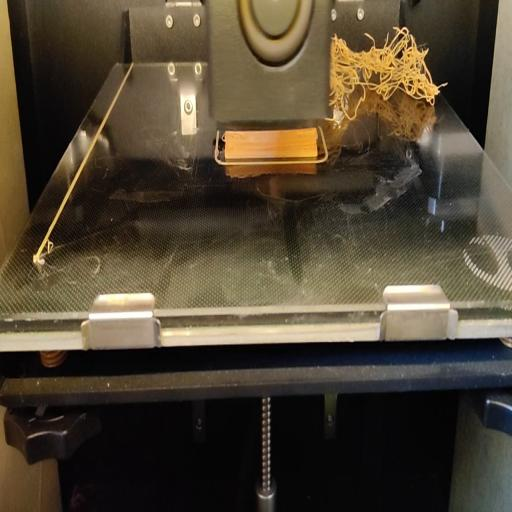spaghetti: (329, 27, 445, 118)
